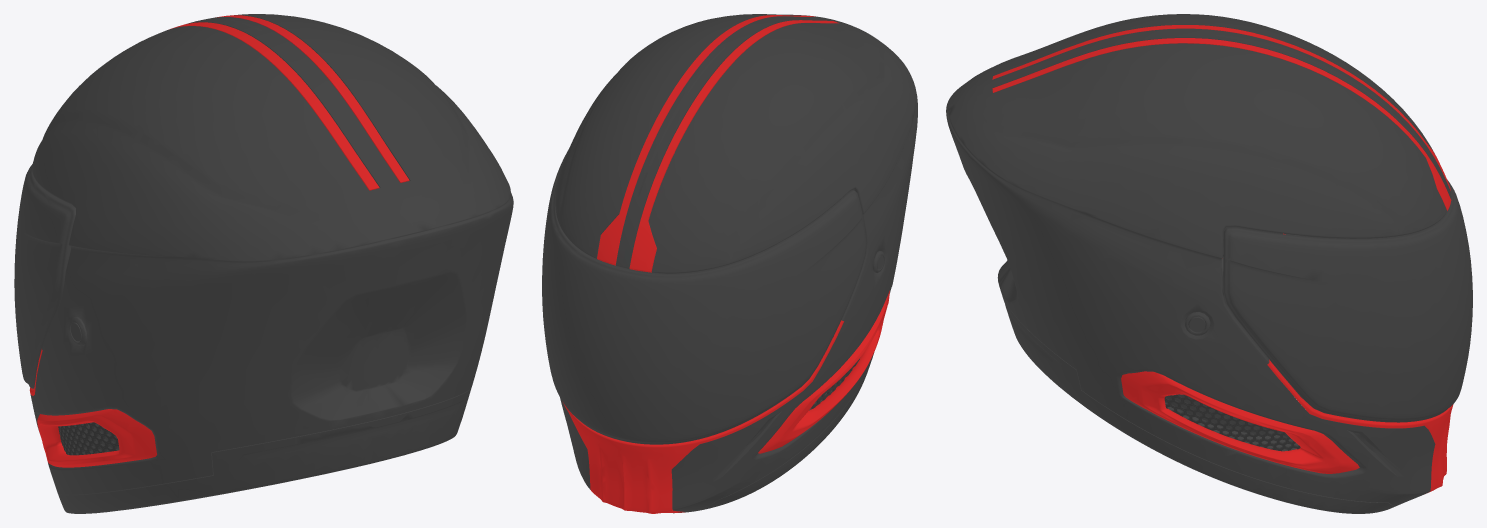
The model's file is helmet-a.glb.
3 renders of one model, left to right at view 1: azimuth 30°, elevation 25°; view 2: azimuth 150°, elevation 25°; view 3: azimuth 270°, elevation 25°, orthographic. The views are drawn at different scales.
Parts seen in each view (by area): view 1: TopStripes_LP_Material_01_0; view 2: TopStripes_LP_Material_01_0; view 3: TopStripes_LP_Material_01_0.
Boxes of the visible parts, x1,y1,x2,y2 form: TopStripes_LP_Material_01_0: [14, 14, 513, 513]; TopStripes_LP_Material_01_0: [542, 14, 917, 513]; TopStripes_LP_Material_01_0: [946, 14, 1472, 513].
Size of the model in its own units: 0.7268 by 0.9528 by 0.9968.
Materials: 1 (1 with a texture image).
